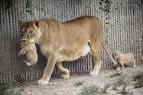lion: (19, 16, 108, 81)
